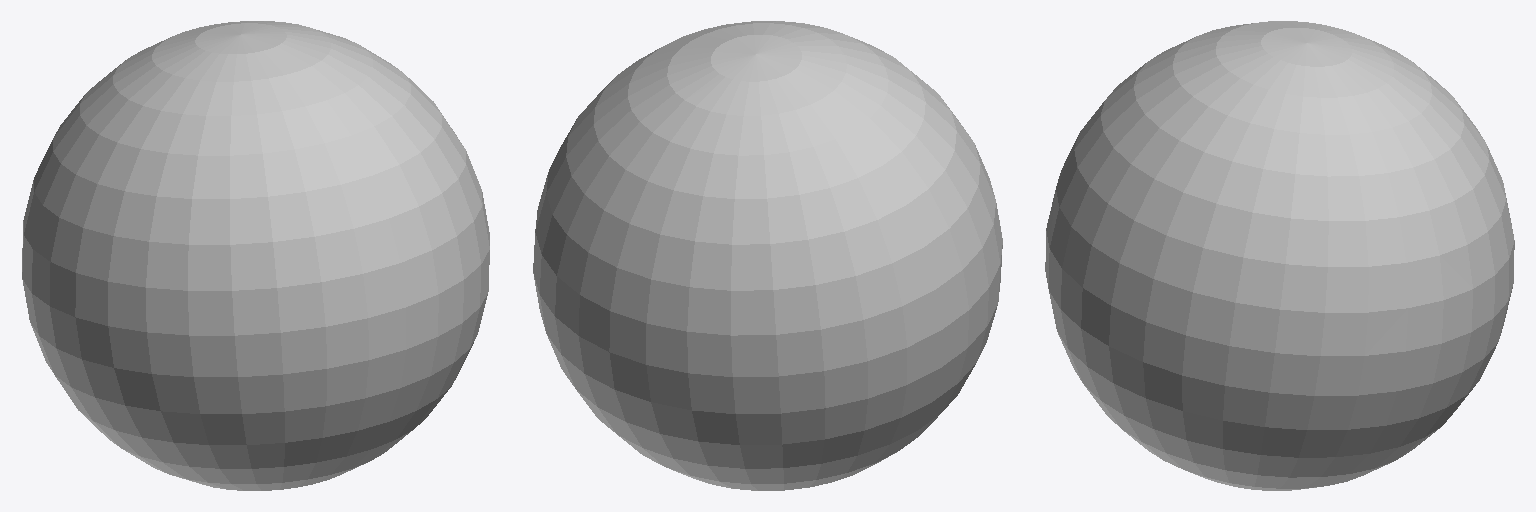
Rendered from moth_wingjoint_r1.obj.
The picture shows the model from 3 angles: view 1: azimuth 30°, elevation 25°; view 2: azimuth 150°, elevation 25°; view 3: azimuth 270°, elevation 25°; orthographic projection.
Visible parts, largest first — view 1: wingJointleft.001_Sphere.001; view 2: wingJointleft.001_Sphere.001; view 3: wingJointleft.001_Sphere.001.
Part boxes in pixels (x1,y1,x2,y2): wingJointleft.001_Sphere.001: (22,21,489,490); wingJointleft.001_Sphere.001: (533,21,1002,490); wingJointleft.001_Sphere.001: (1045,21,1514,490).
Size of the model in its own units: 0.1 by 0.0997 by 0.0996.